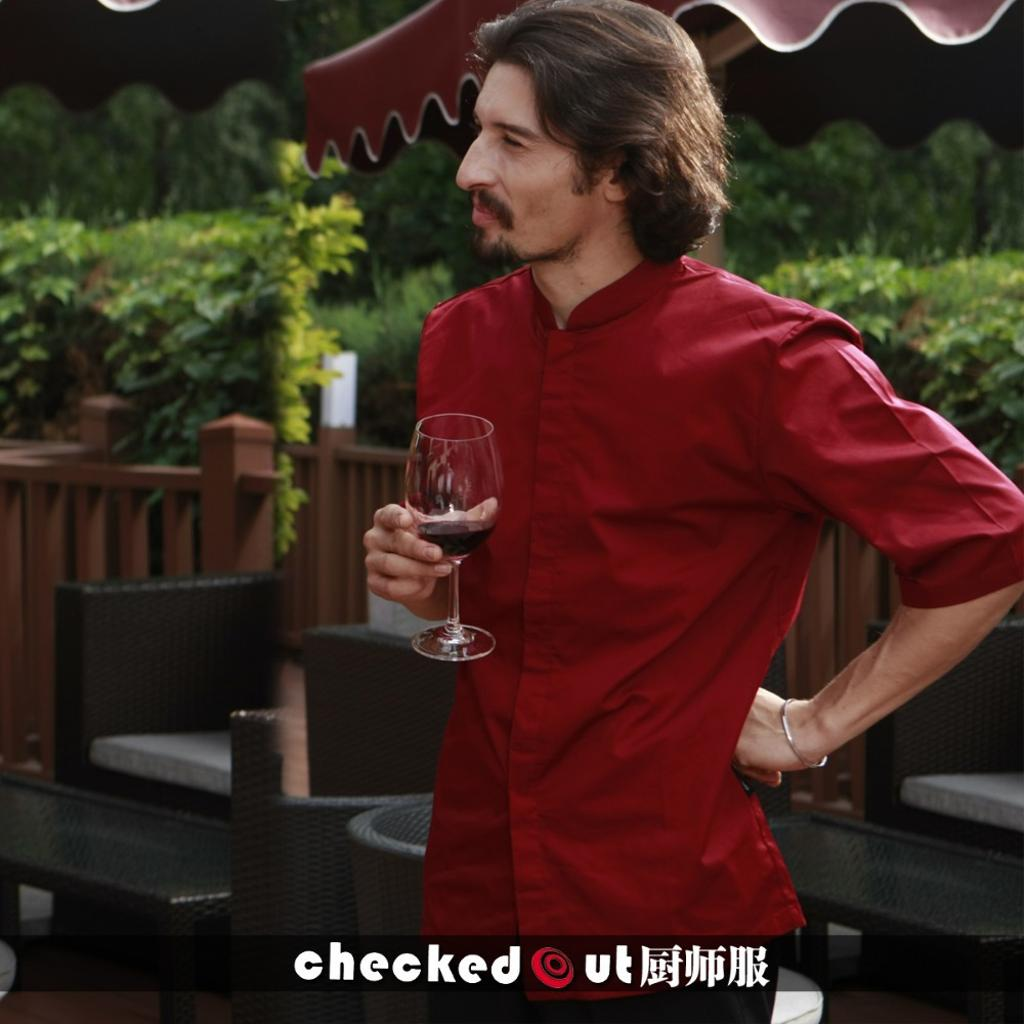face: (456, 64, 604, 260)
